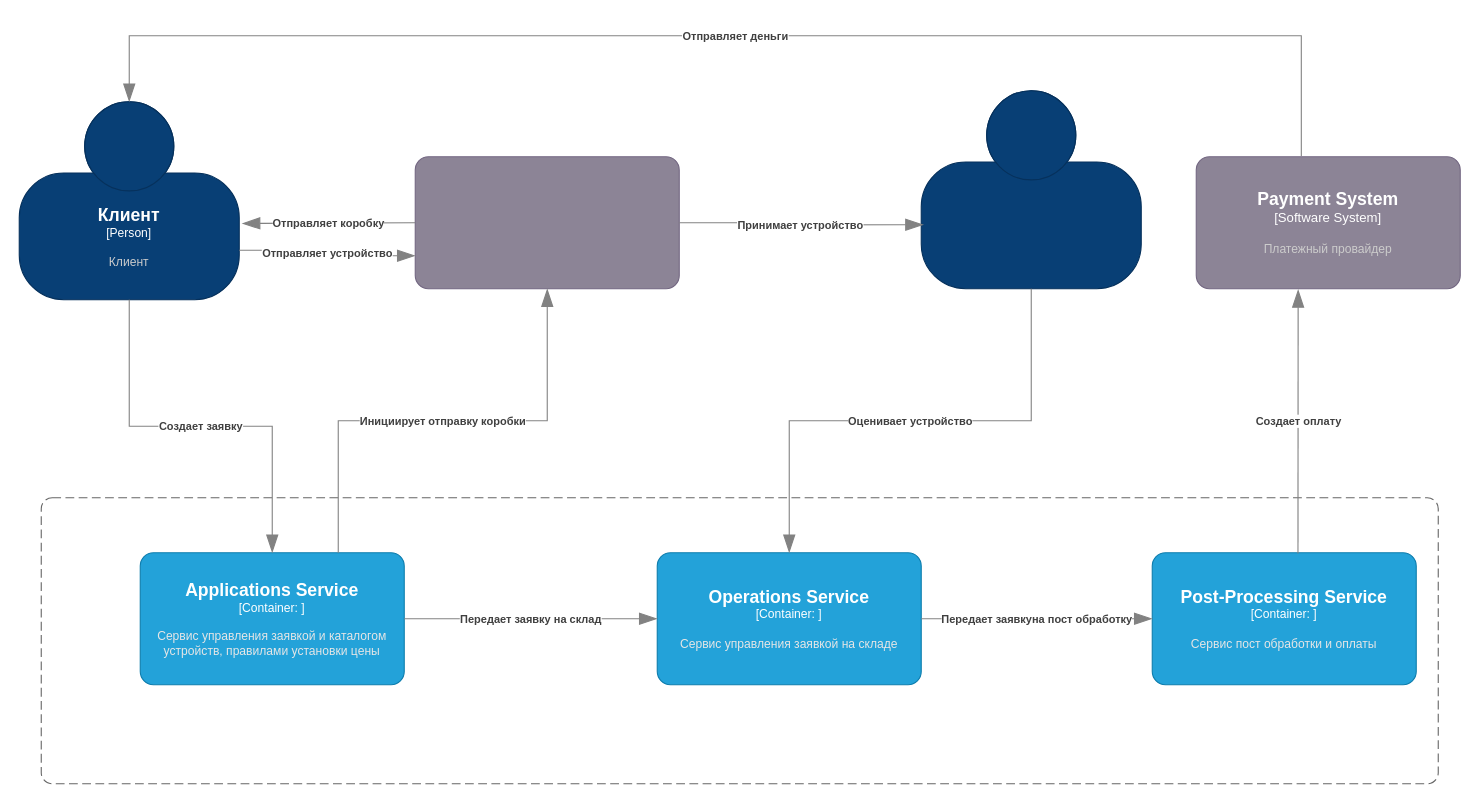
Image size: 1480x803. Some labels were removed from this diagram. The box of each missing label's shape, as (x1, y1, x2, y2) in pixels:
Delivery System [Software System] Сервис по работе с посылками: (414, 156, 679, 289)
Recycle system [Software System]: (40, 497, 1438, 784)
Сотрудник склада [Person] Сотрудник склада: (920, 90, 1141, 289)
